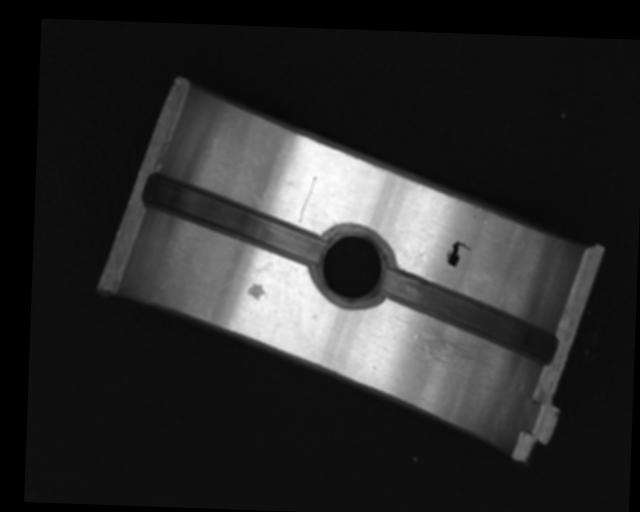blot: (445, 240, 473, 269)
bruise: (246, 282, 267, 302)
gap: (379, 269, 559, 364)
hole: (142, 173, 327, 266), (314, 224, 395, 304)
nick: (296, 175, 317, 226)
scratch: (393, 311, 494, 366)
